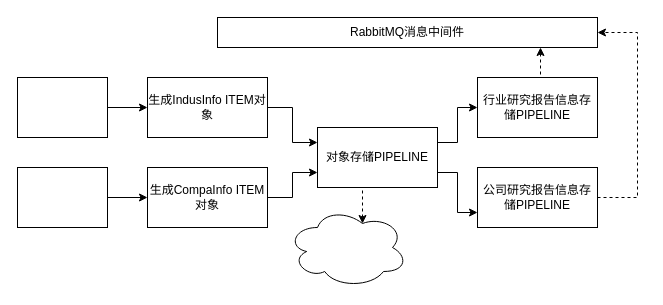
This 663x305 diagram has some shape labels left out. The shapes that lost their labels are listed below. From the top down, each one's centre as x and y in pixels, then its label:
(62,107): 行业研究报告
(62,197): 公司研究报告
(347,247): 数据湖 OSS/HDFS/S3
